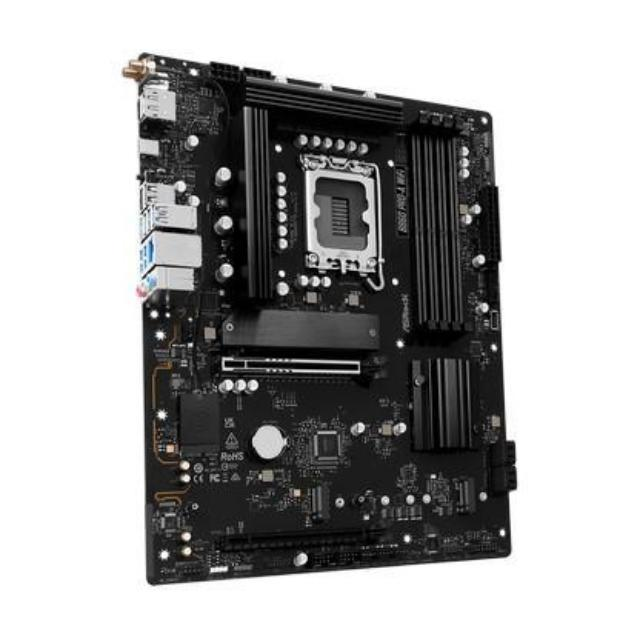Mainboard: (113, 38, 522, 607)
